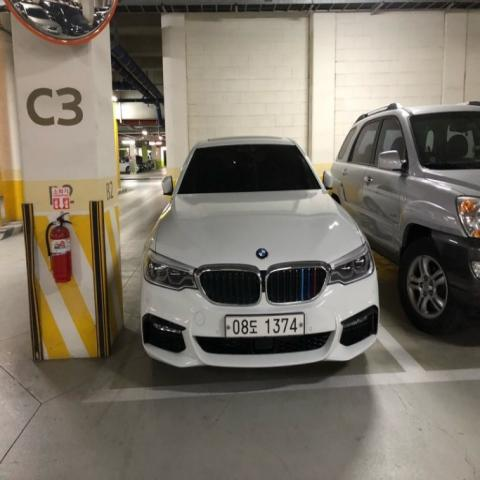LP: (219, 310, 309, 342)
